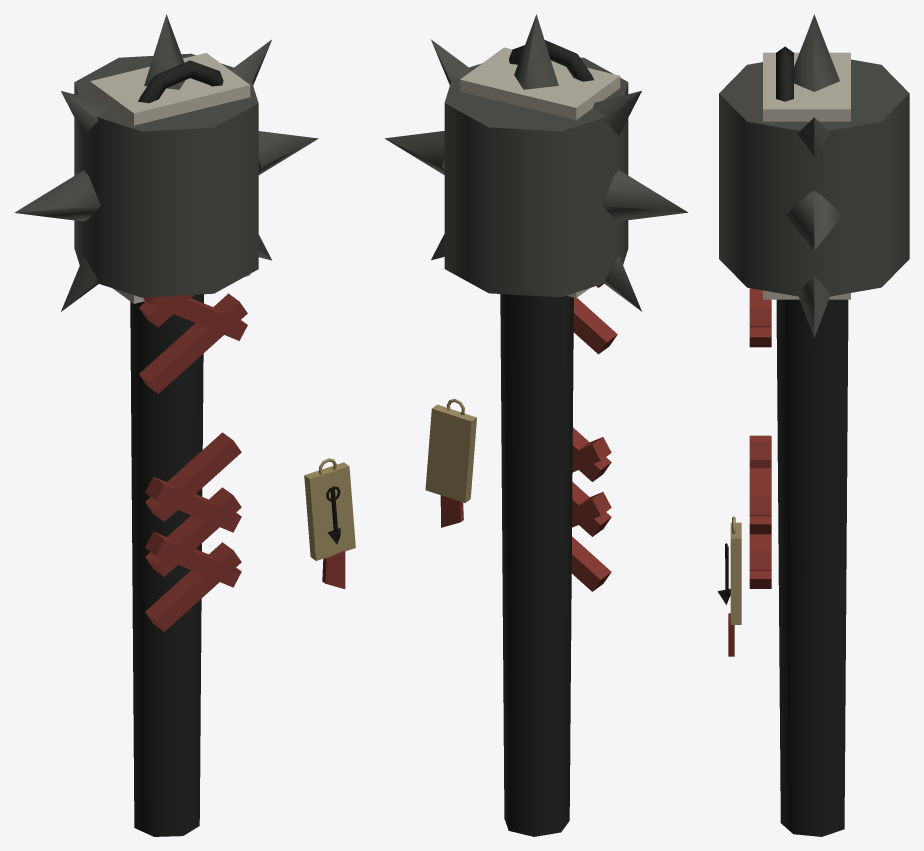
File: fantasy-faceted-spiked-mace-v1.glb
3 renders of one model, left to right at view 1: azimuth 30°, elevation 25°; view 2: azimuth 150°, elevation 25°; view 3: azimuth 270°, elevation 25°, orthographic.
Visible parts, largest first — view 1: Spiked Mace; view 2: Spiked Mace; view 3: Spiked Mace.
Boxes of the visible parts, x1,y1,x2,y2 form: Spiked Mace: (14, 14, 355, 836); Spiked Mace: (384, 14, 687, 836); Spiked Mace: (718, 14, 909, 836).
Bounding box in the file's own units: 1.44 × 3.65 × 0.7869.
